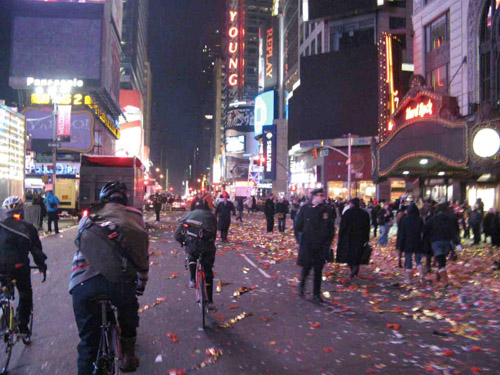bikerider: (67, 172, 147, 369), (1, 192, 56, 364), (175, 191, 228, 330)
